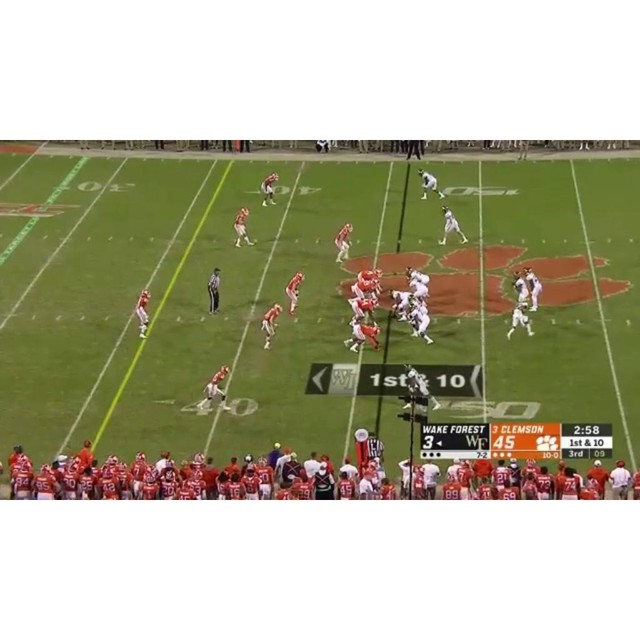american-football-player: (402, 364, 442, 413), (201, 365, 230, 412), (506, 300, 535, 341), (408, 304, 436, 346), (439, 204, 468, 244), (344, 323, 382, 353), (261, 303, 282, 350), (348, 298, 380, 328), (285, 270, 305, 315), (418, 168, 445, 201), (524, 267, 543, 312), (134, 289, 151, 339), (234, 207, 255, 247), (389, 289, 415, 321), (350, 279, 382, 304), (334, 223, 354, 263), (261, 172, 279, 206), (405, 265, 431, 286), (356, 268, 383, 286)
referee: (207, 266, 222, 314)
